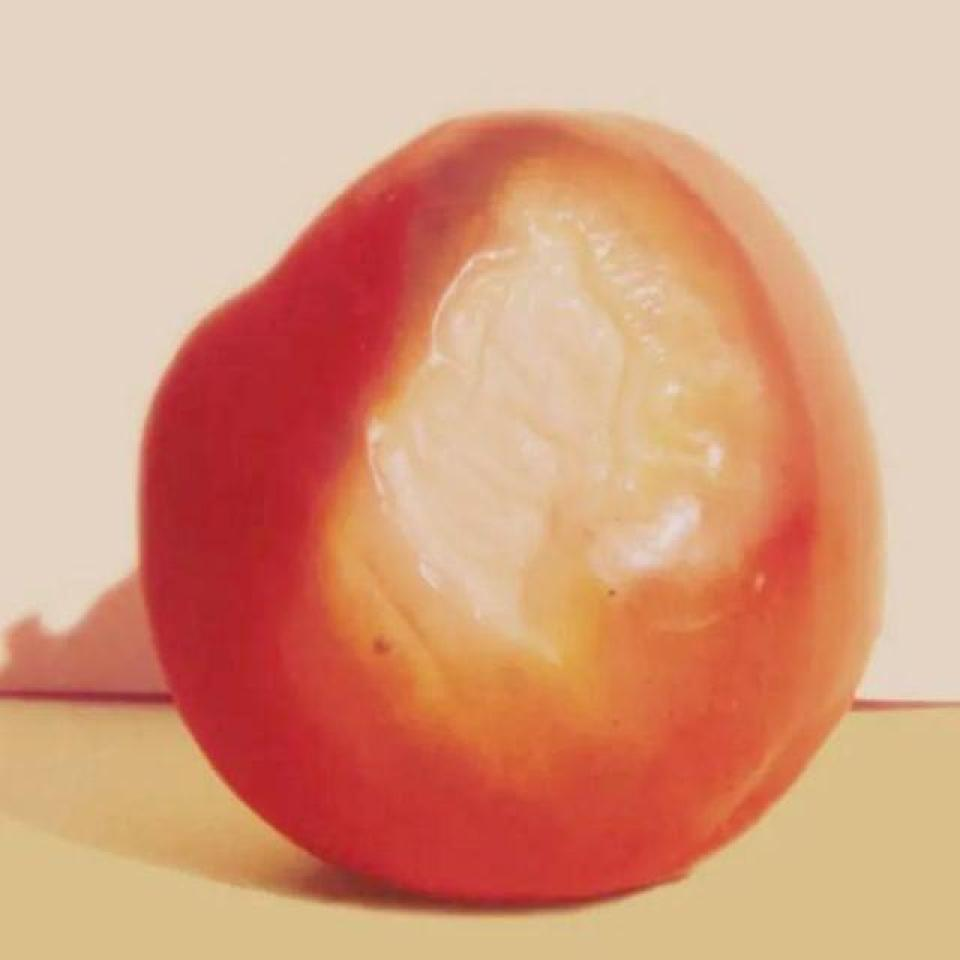Sunscald: (314, 156, 816, 747)
